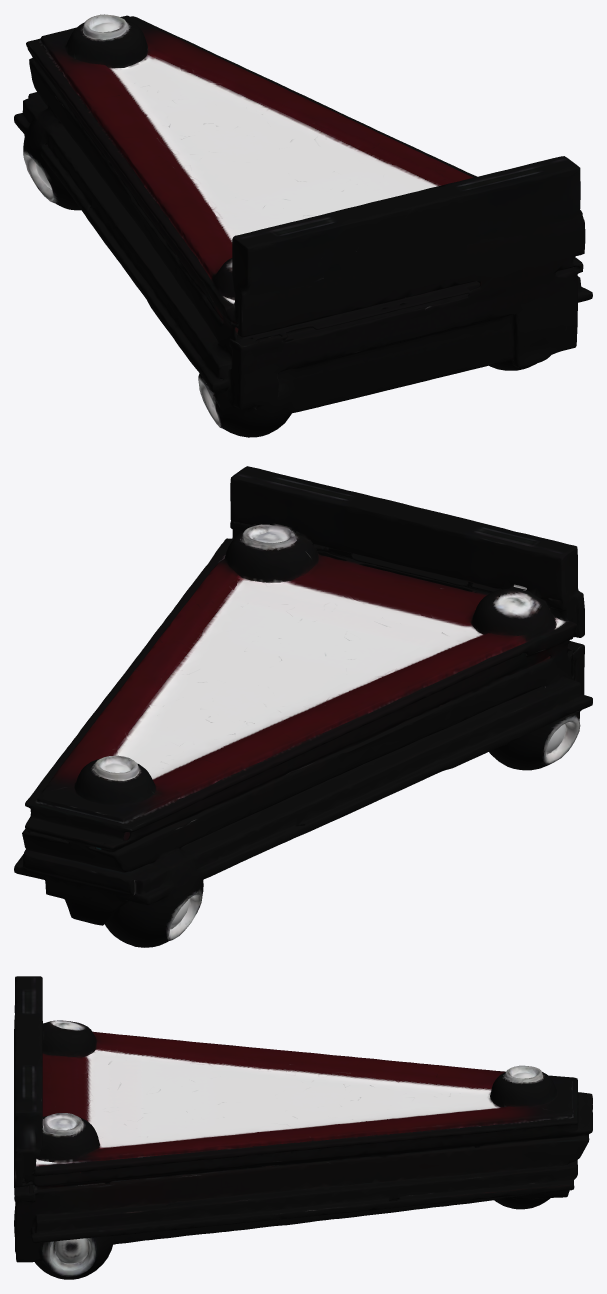
Rendered from slingshot.glb.
3 views of the same model, one above another, from view 1: azimuth 30°, elevation 25°; view 2: azimuth 150°, elevation 25°; view 3: azimuth 270°, elevation 25° (orthographic). The views are drawn at different scales.
Bounding box in the file's own units: 0.6402 × 0.3431 × 1.
1 material, 1 textured.
